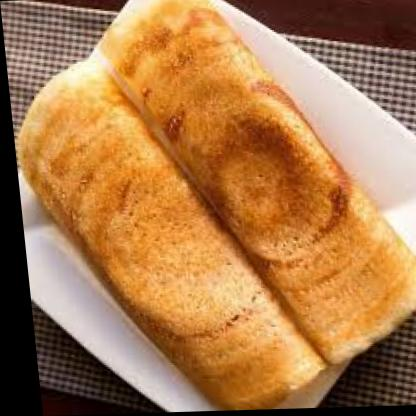dosa: (94, 0, 416, 370), (7, 56, 320, 416)
